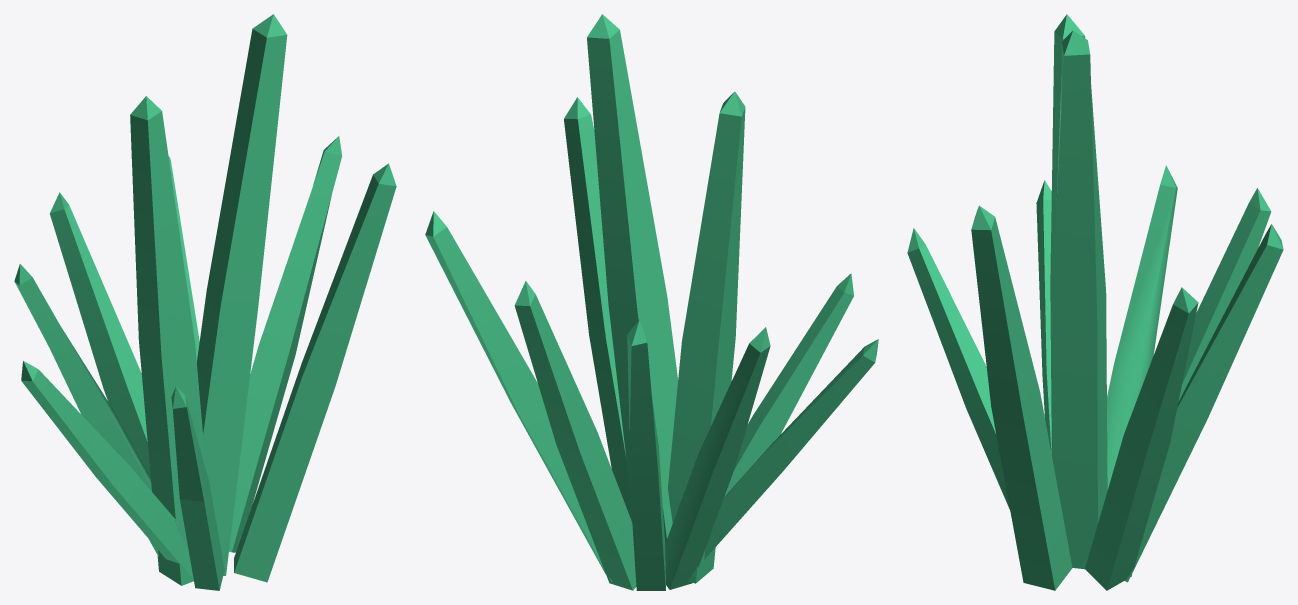
File: coral_diamonds_A_light.fbx
3 renders of one model, left to right at view 1: azimuth 30°, elevation 25°; view 2: azimuth 150°, elevation 25°; view 3: azimuth 270°, elevation 25°, orthographic. The views are drawn at different scales.
Parts seen in each view (by area): view 1: coral_diamonds_A_light; view 2: coral_diamonds_A_light; view 3: coral_diamonds_A_light.
Part boxes in pixels (box(x1,y1,x2,y2)): coral_diamonds_A_light: box(14, 14, 396, 590); coral_diamonds_A_light: box(425, 14, 878, 590); coral_diamonds_A_light: box(907, 14, 1283, 590).
Bounding box in the file's own units: 52.37 × 70.64 × 42.23.
